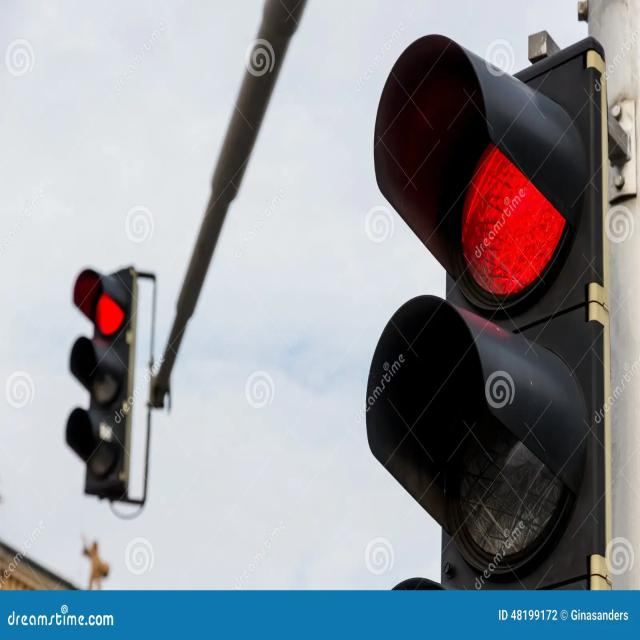red: (438, 125, 556, 311), (66, 263, 126, 343)
